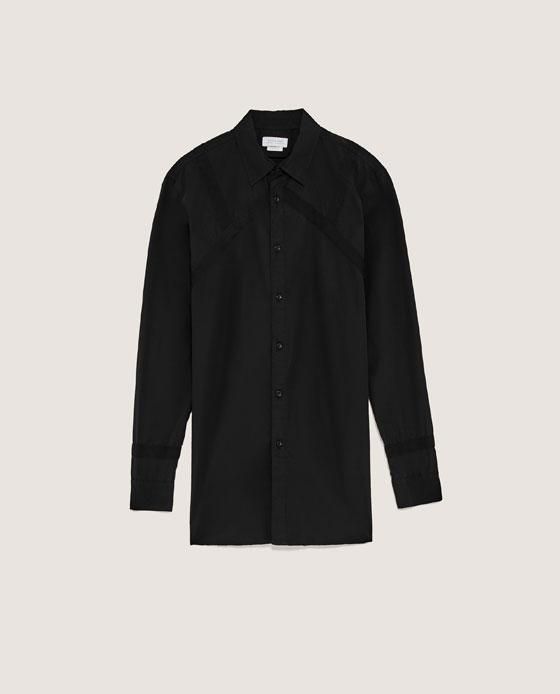teeshirt: (120, 103, 448, 573)
